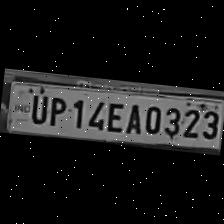0: (140, 100, 162, 136)
1: (66, 94, 86, 130)
2: (180, 104, 202, 140)
3: (198, 105, 220, 142), (160, 102, 182, 138)
4: (84, 95, 106, 131)
A: (122, 99, 143, 135)
E: (102, 97, 125, 133)
P: (44, 94, 68, 128)
U: (25, 90, 48, 126)
